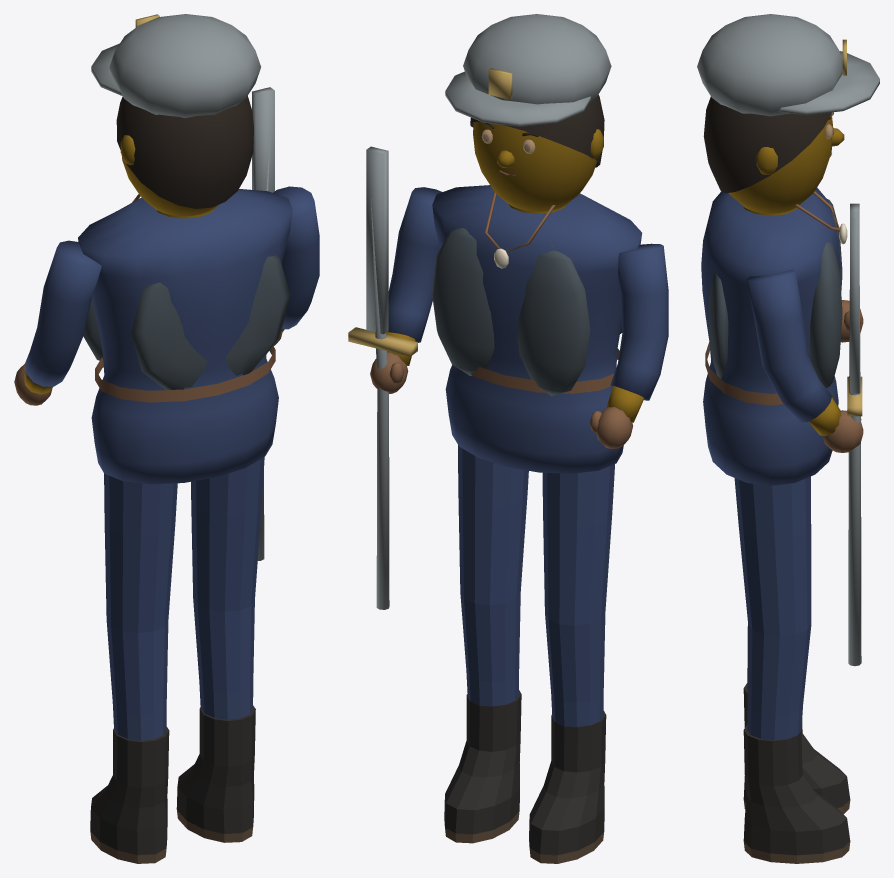
Rendered from SM_NPC_ROCA.glb.
3 renders of one model, left to right at view 1: azimuth 30°, elevation 25°; view 2: azimuth 150°, elevation 25°; view 3: azimuth 270°, elevation 25°, orthographic. The views are drawn at different scales.
Visible parts, largest first — view 1: SM_NPC_ROCA_BODY, SM_NPC_ROCA_LEG_L, SM_NPC_ROCA_HAIR, SM_NPC_ROCA_LEG_R, SM_NPC_ROCA_ARM_L, SM_NPC_ROCA_ARM_R, SM_NPC_ROCA_HEAD; view 2: SM_NPC_ROCA_BODY, SM_NPC_ROCA_LEG_L, SM_NPC_ROCA_LEG_R, SM_NPC_ROCA_HAIR, SM_NPC_ROCA_ARM_R, SM_NPC_ROCA_ARM_L, SM_NPC_ROCA_HEAD; view 3: SM_NPC_ROCA_BODY, SM_NPC_ROCA_LEG_R, SM_NPC_ROCA_HAIR, SM_NPC_ROCA_ARM_R, SM_NPC_ROCA_HEAD, SM_NPC_ROCA_LEG_L, SM_NPC_ROCA_ARM_L.
Boxes of the visible parts, box(x1,y1,x2,y2) form: SM_NPC_ROCA_BODY: box(78, 189, 292, 484); SM_NPC_ROCA_LEG_L: box(90, 473, 177, 863); SM_NPC_ROCA_HAIR: box(91, 14, 260, 208); SM_NPC_ROCA_LEG_R: box(176, 457, 264, 842); SM_NPC_ROCA_ARM_L: box(14, 240, 101, 405); SM_NPC_ROCA_ARM_R: box(252, 87, 319, 560); SM_NPC_ROCA_HEAD: box(120, 118, 253, 216); SM_NPC_ROCA_BODY: box(431, 185, 642, 473); SM_NPC_ROCA_LEG_L: box(529, 464, 614, 863); SM_NPC_ROCA_LEG_R: box(444, 445, 528, 843); SM_NPC_ROCA_HAIR: box(445, 14, 611, 167); SM_NPC_ROCA_ARM_R: box(348, 146, 441, 609); SM_NPC_ROCA_ARM_L: box(589, 243, 668, 448); SM_NPC_ROCA_HEAD: box(473, 121, 603, 211); SM_NPC_ROCA_BODY: box(701, 187, 847, 485); SM_NPC_ROCA_LEG_R: box(734, 476, 850, 863); SM_NPC_ROCA_HAIR: box(697, 14, 879, 193); SM_NPC_ROCA_ARM_R: box(746, 203, 863, 666); SM_NPC_ROCA_HEAD: box(728, 114, 844, 213); SM_NPC_ROCA_LEG_L: box(743, 476, 850, 814); SM_NPC_ROCA_ARM_L: box(840, 300, 863, 342).
Size of the model in its own units: 0.7196 by 1.97 by 0.4062.
